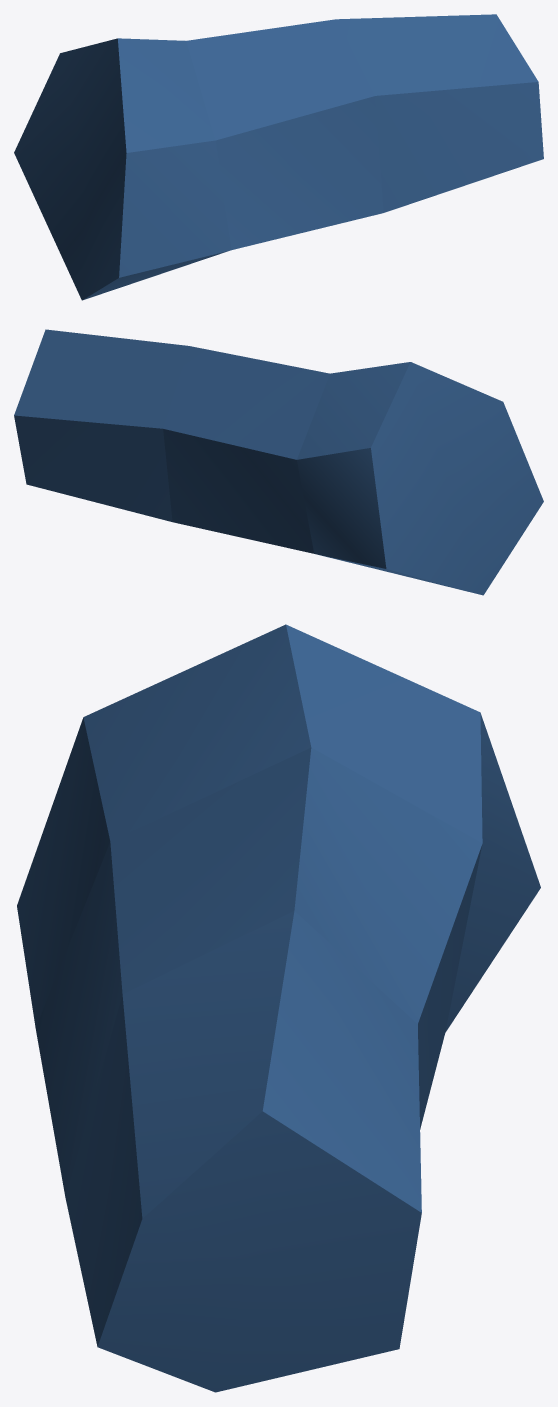
The model's file is Arm_L_Cop.glb.
3 views of the same model, one above another, from view 1: azimuth 30°, elevation 25°; view 2: azimuth 150°, elevation 25°; view 3: azimuth 270°, elevation 25° (orthographic). The views are drawn at different scales.
Visible parts, largest first — view 1: Arm_L_Cop; view 2: Arm_L_Cop; view 3: Arm_L_Cop.
Part boxes in pixels (x1,y1,x2,y2): Arm_L_Cop: (14, 14, 543, 300); Arm_L_Cop: (14, 329, 543, 595); Arm_L_Cop: (17, 624, 540, 1392).
Bounding box in the file's own units: 0.3252 × 0.1621 × 0.1645.
Materials: 1 (1 with a texture image).
